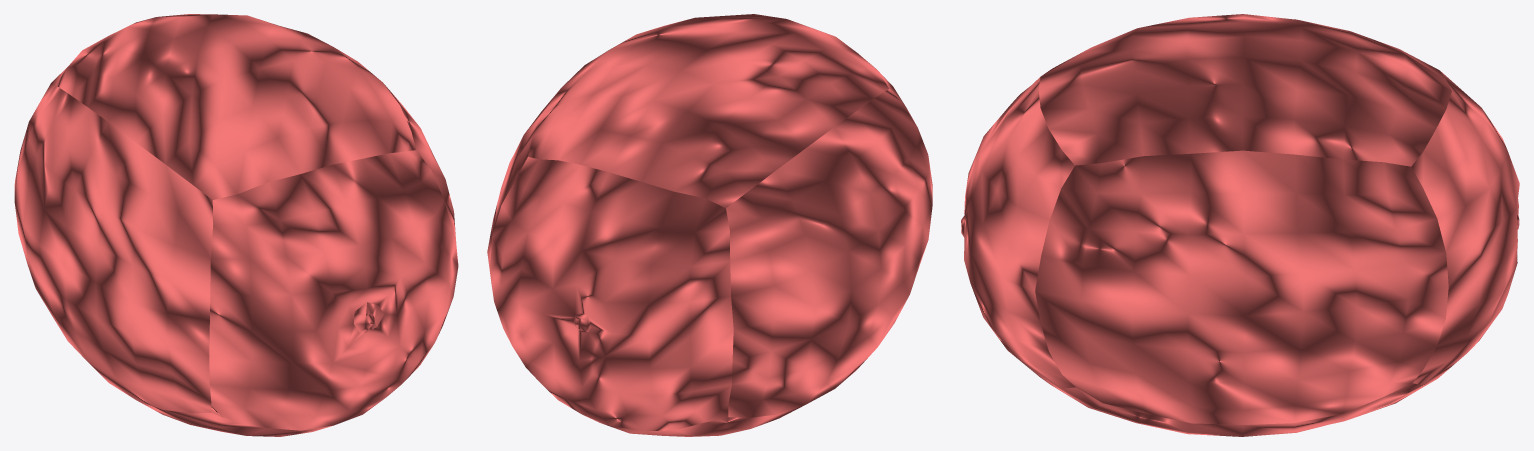
The model's file is fruit_watermelon_1_e.glb.
3 renders of one model, left to right at view 1: azimuth 30°, elevation 25°; view 2: azimuth 150°, elevation 25°; view 3: azimuth 270°, elevation 25°, orthographic. The views are drawn at different scales.
Size of the model in its own units: 0.1904 by 0.1904 by 0.2557.
